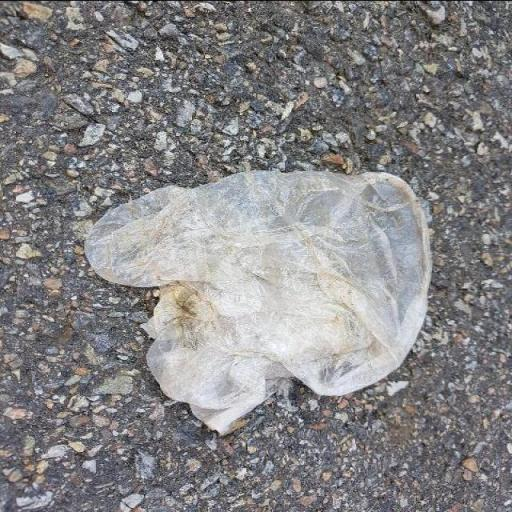plastic-bag: (79, 166, 434, 433)
